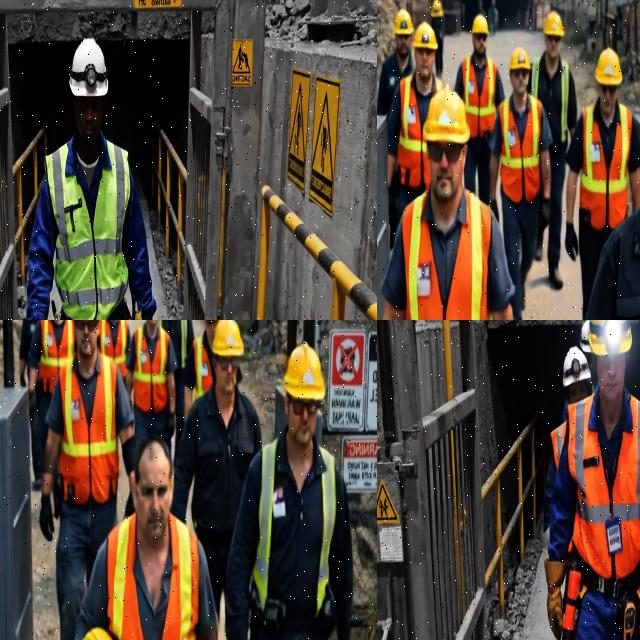Vest: (45, 141, 130, 319), (402, 191, 490, 319), (59, 356, 117, 505), (579, 105, 631, 230), (612, 396, 639, 578), (499, 96, 541, 203), (162, 515, 198, 639), (252, 439, 277, 611), (396, 74, 429, 188), (133, 327, 169, 414), (462, 57, 496, 138), (39, 320, 73, 394), (100, 320, 127, 378), (193, 337, 212, 400), (560, 60, 568, 143), (179, 320, 187, 368)
Worker: (225, 343, 352, 639), (26, 39, 155, 319), (39, 320, 134, 639), (381, 90, 512, 319), (545, 320, 639, 639), (75, 436, 216, 639), (172, 320, 261, 614), (565, 49, 639, 319), (489, 48, 551, 319), (528, 11, 576, 288), (387, 22, 444, 223), (455, 15, 504, 204), (28, 320, 74, 451), (585, 209, 639, 319), (159, 320, 193, 460), (182, 320, 218, 420), (100, 320, 129, 380), (19, 320, 38, 386)
helmet: (423, 87, 469, 144), (283, 342, 324, 400), (69, 39, 107, 96), (589, 320, 631, 355), (562, 347, 590, 387), (212, 320, 242, 357), (595, 48, 621, 86), (413, 22, 437, 50), (543, 11, 563, 37), (394, 9, 412, 35), (579, 320, 590, 353), (471, 14, 488, 35), (83, 627, 111, 639), (96, 320, 100, 320), (216, 320, 218, 320)
